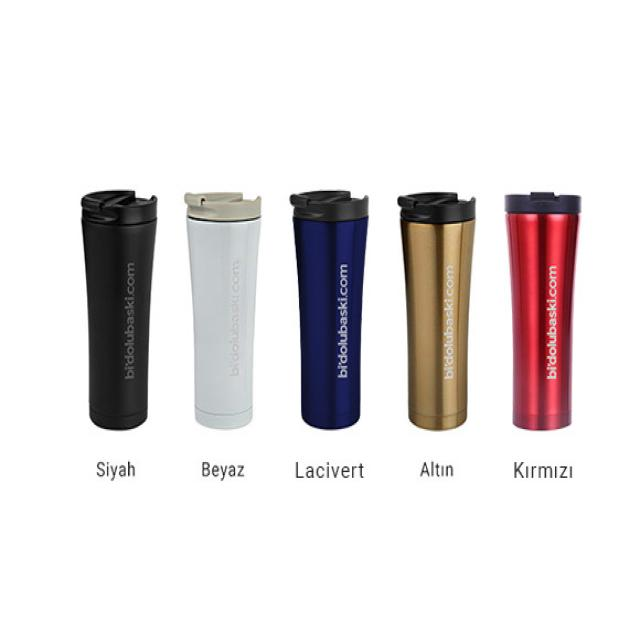Termos: (398, 190, 478, 432)
